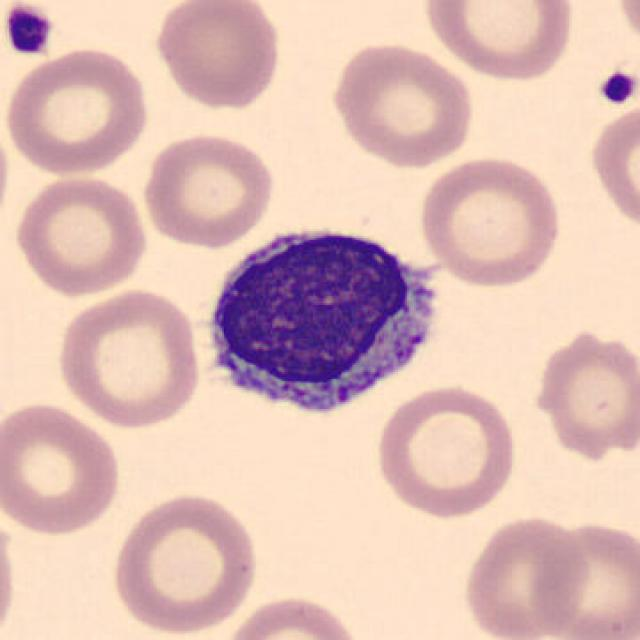Lymphocyte: (194, 212, 452, 430)
Platelets: (0, 2, 57, 60), (596, 67, 636, 108)
RBC: (107, 488, 261, 636), (52, 286, 205, 430), (372, 379, 519, 522), (414, 152, 566, 289), (2, 44, 153, 178), (327, 39, 478, 169), (11, 171, 151, 298), (0, 398, 126, 538), (139, 129, 279, 250), (459, 511, 590, 640), (528, 324, 638, 462), (150, 0, 284, 113), (418, 0, 580, 85), (528, 516, 638, 640), (218, 590, 366, 640), (585, 99, 638, 236), (0, 500, 21, 640), (0, 100, 14, 244), (611, 0, 640, 58)
